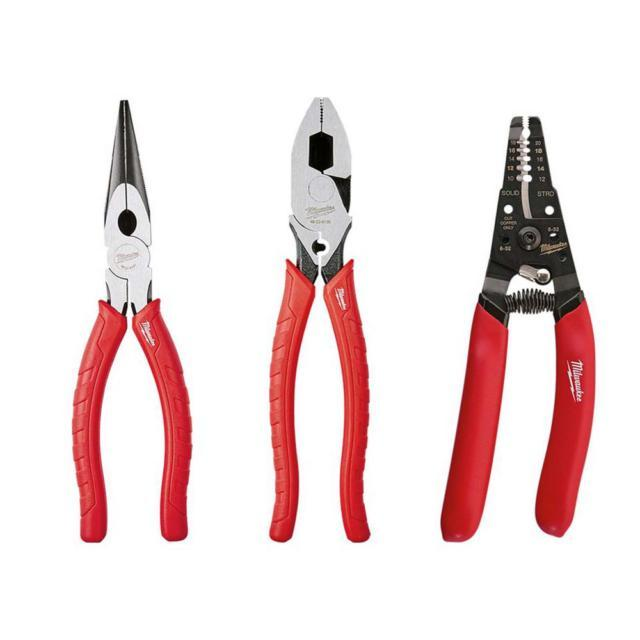pliers: (432, 106, 604, 554), (64, 97, 200, 557), (263, 91, 382, 551)
